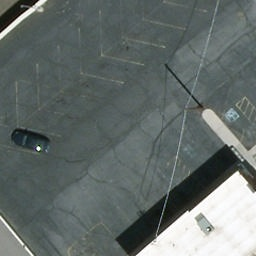car: (10, 128, 51, 156)
